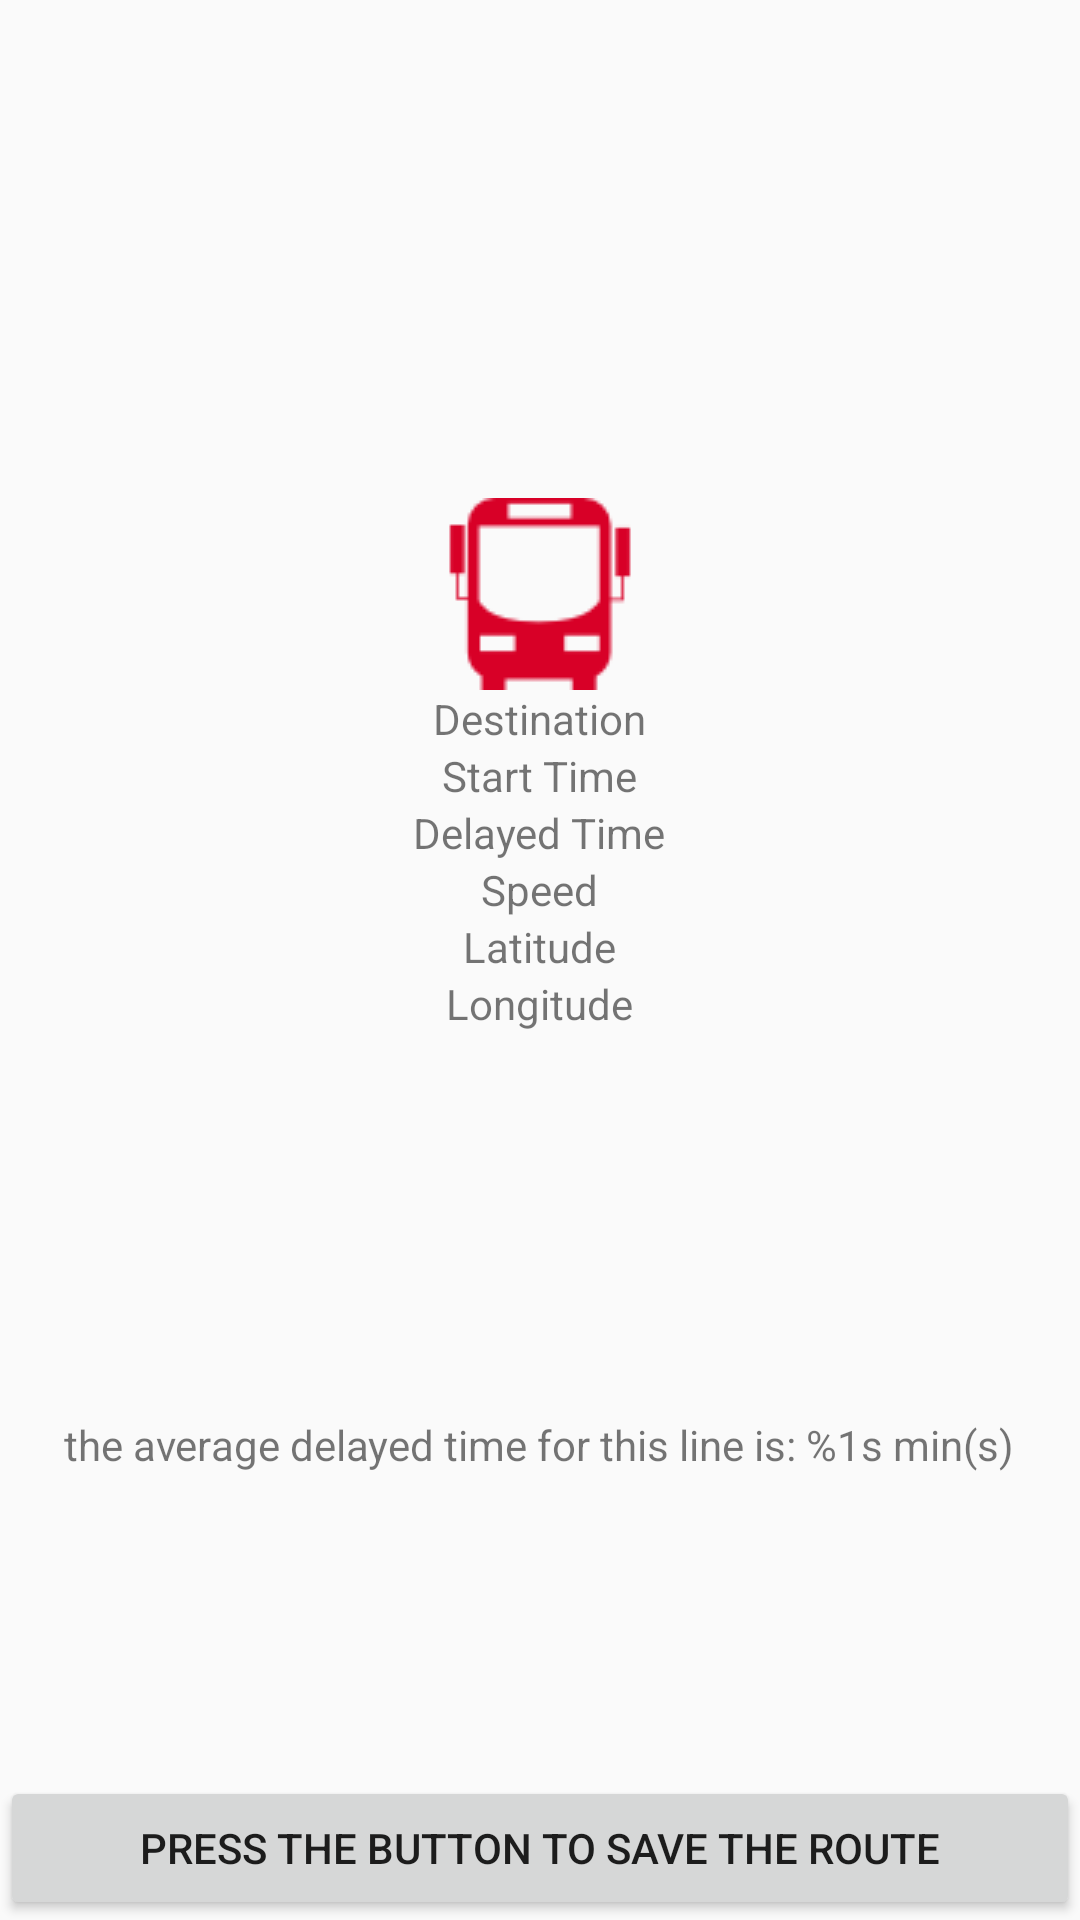

Icon bounding boxes for this 1080*1920 phone screenshot, format rect(x1, y1, x2, y2):
bus: rect(449, 498, 631, 690)
